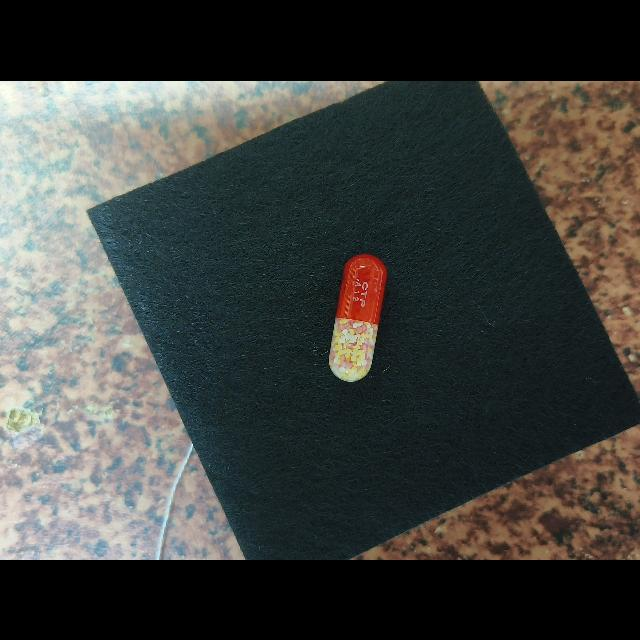Intact Capsule: (329, 253, 387, 381)
